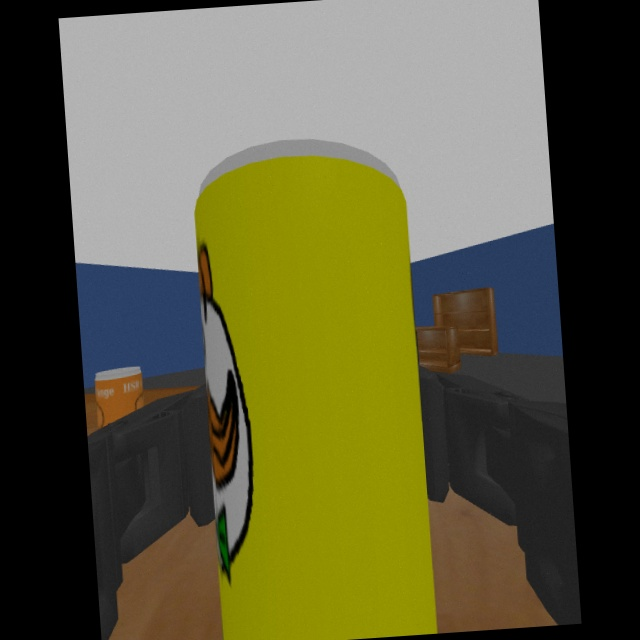chipsdose_gelb: (195, 140, 438, 640)
